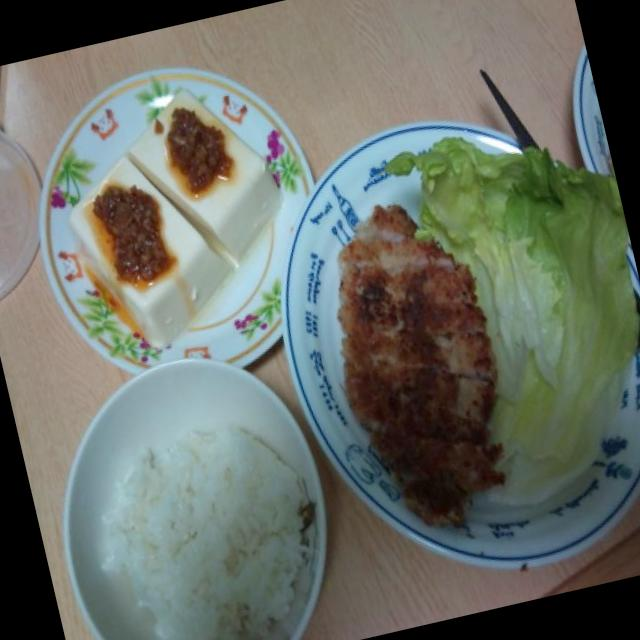Rice: (96, 411, 317, 640)
